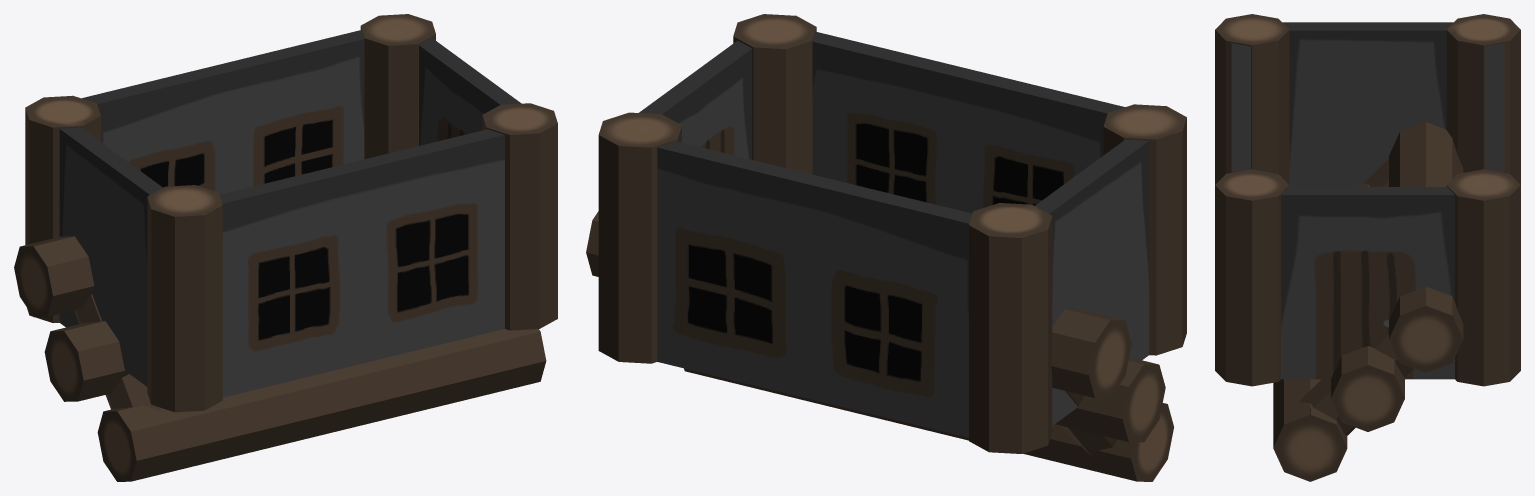
The model's file is domecek-shattered.fbx.
3 renders of one model, left to right at view 1: azimuth 30°, elevation 25°; view 2: azimuth 150°, elevation 25°; view 3: azimuth 270°, elevation 25°, orthographic. The views are drawn at different scales.
Parts seen in each view (by area): view 1: domecek1-shattered, domecek1-shattered-roof, domecek1-shattered-log; view 2: domecek1-shattered, domecek1-shattered-roof, domecek1-shattered-log; view 3: domecek1-shattered, domecek1-shattered-roof, domecek1-shattered-log.
Boxes of the visible parts, <box> form: domecek1-shattered: <box>25,14,557,412</box>; domecek1-shattered-roof: <box>14,236,546,481</box>; domecek1-shattered-log: <box>44,321,128,401</box>; domecek1-shattered: <box>598,14,1186,453</box>; domecek1-shattered-roof: <box>586,211,1173,481</box>; domecek1-shattered-log: <box>1055,357,1165,442</box>; domecek1-shattered: <box>1215,14,1520,386</box>; domecek1-shattered-roof: <box>1273,122,1463,481</box>; domecek1-shattered-log: <box>1331,183,1404,431</box>.
Bounding box in the file's own units: 733 × 453 × 449.
1 material, 1 textured.
